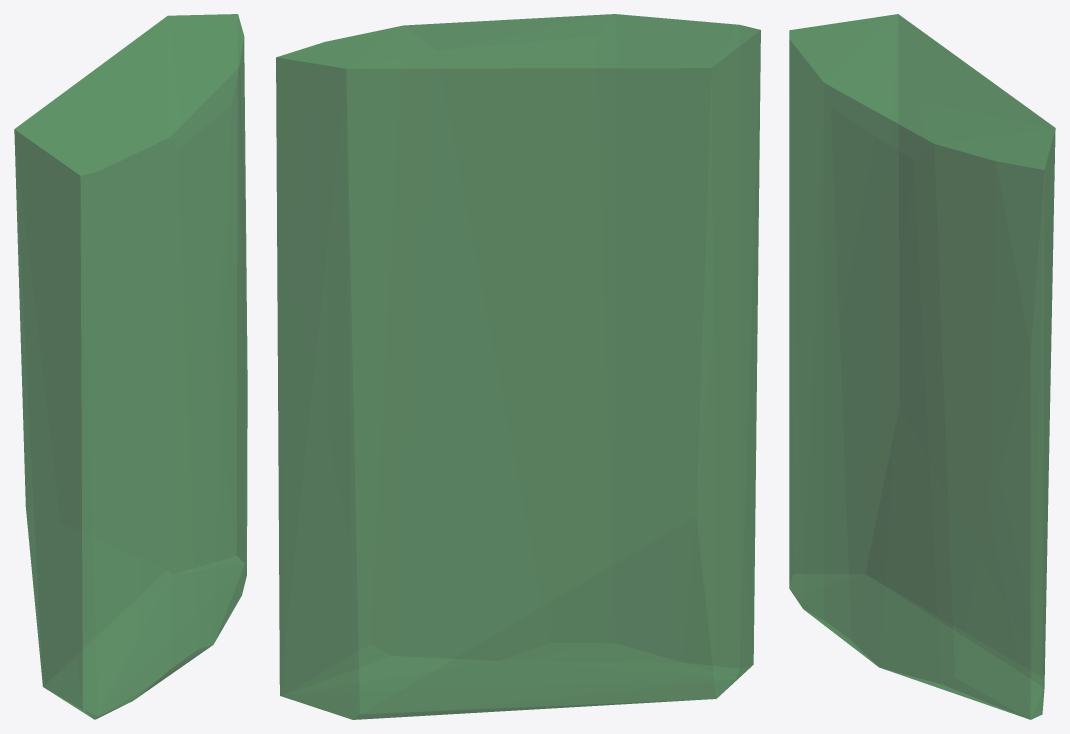
The picture shows the model from 3 angles, left to right: view 1: azimuth 30°, elevation 25°; view 2: azimuth 150°, elevation 25°; view 3: azimuth 270°, elevation 25°; orthographic projection. The views are drawn at different scales.
Parts seen in each view (by area): view 1: Shape_IndexedFaceSet.003_Shape_IndexedFaceSet.18064; view 2: Shape_IndexedFaceSet.003_Shape_IndexedFaceSet.18064; view 3: Shape_IndexedFaceSet.003_Shape_IndexedFaceSet.18064.
Part boxes in pixels (left/top/right/bottom): Shape_IndexedFaceSet.003_Shape_IndexedFaceSet.18064: left=14, top=14, right=247, bottom=719; Shape_IndexedFaceSet.003_Shape_IndexedFaceSet.18064: left=276, top=14, right=760, bottom=719; Shape_IndexedFaceSet.003_Shape_IndexedFaceSet.18064: left=789, top=14, right=1055, bottom=719.
Size of the model in its own units: 0.1479 by 0.2677 by 0.114.
